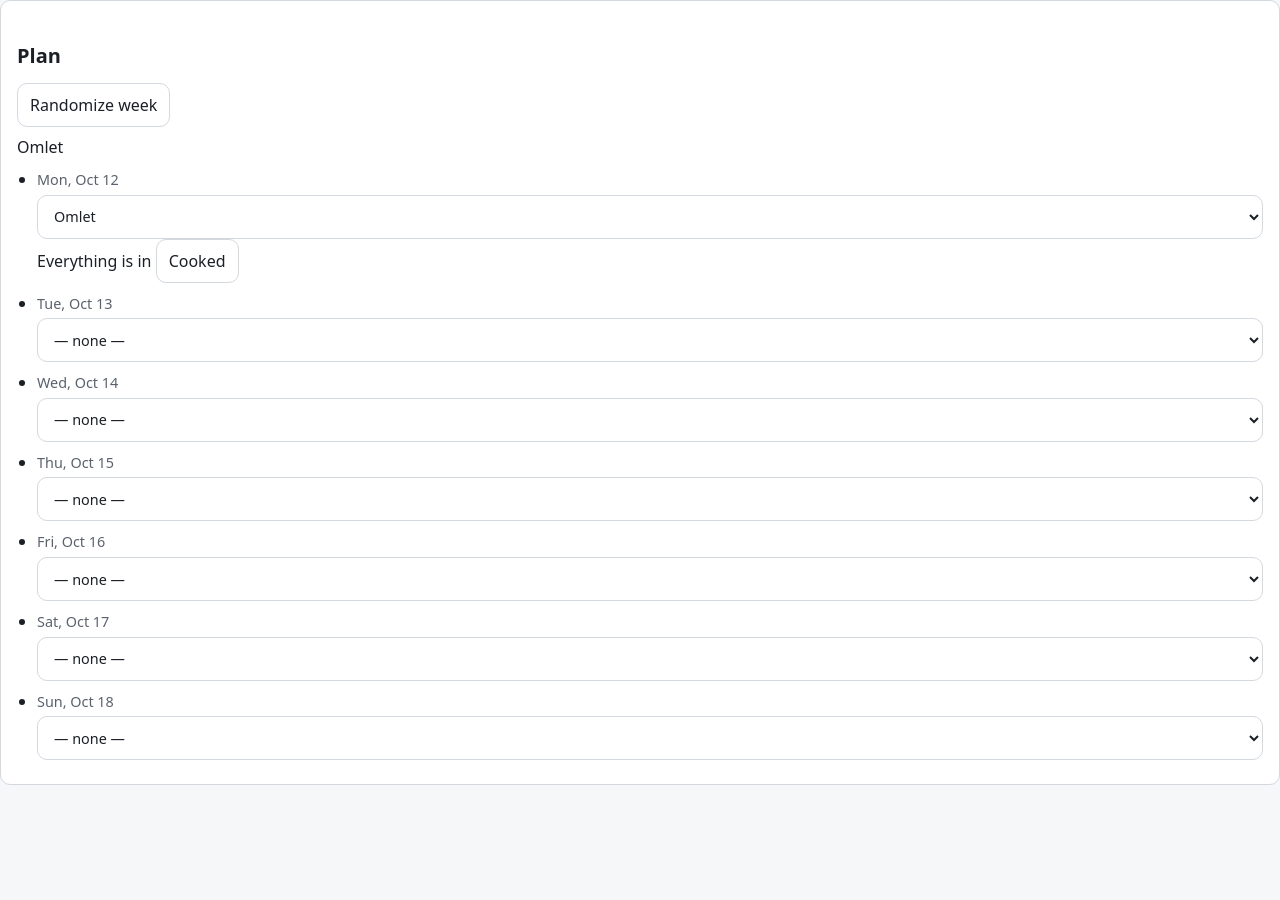
Test: PlanView cooking › cancels without writing
The width and height of the screenshot is (1280, 900).
Click the button "Cooked" at (197, 261), box [156,239,238,283]
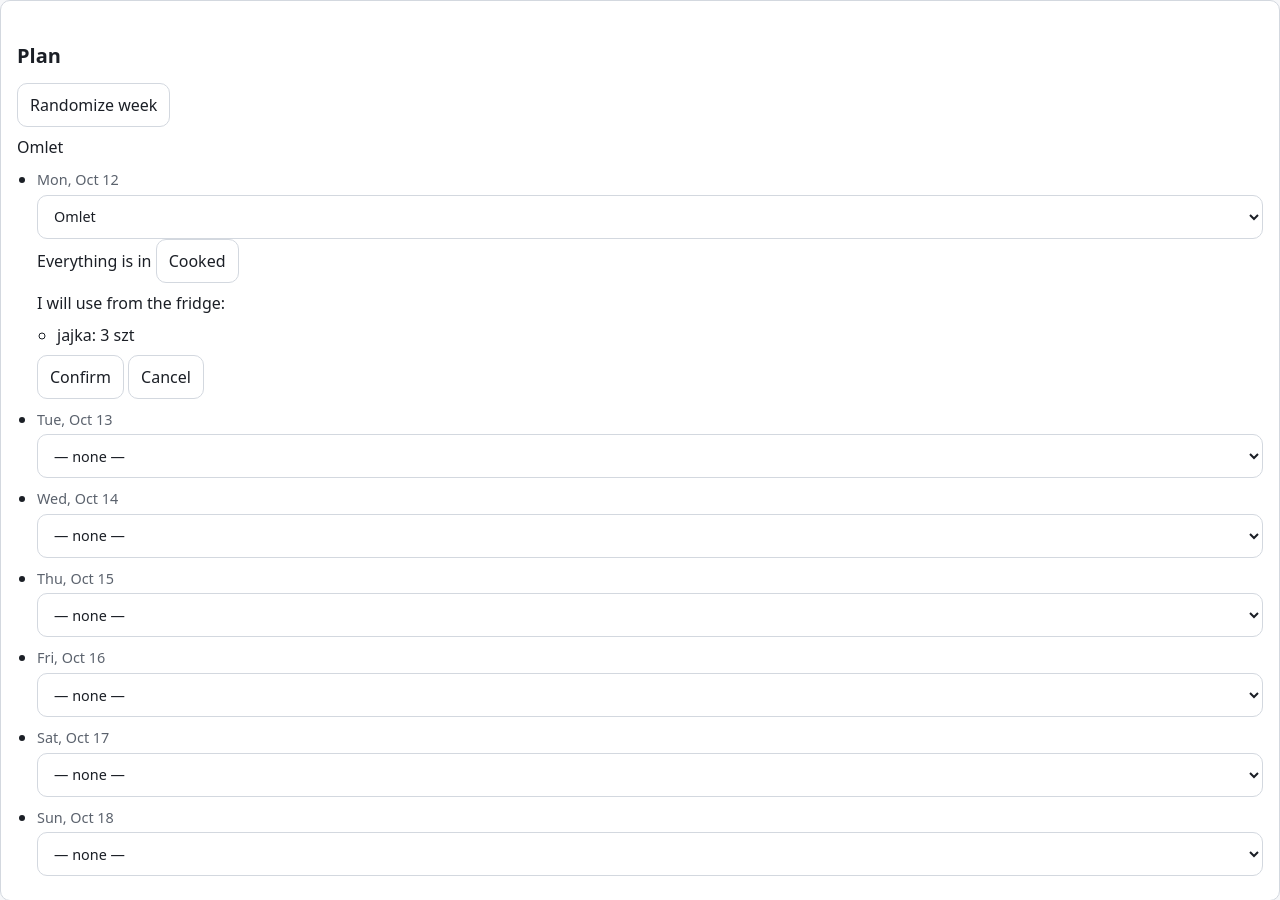
Click the button "Cancel" at (166, 377), box [128,355,204,399]
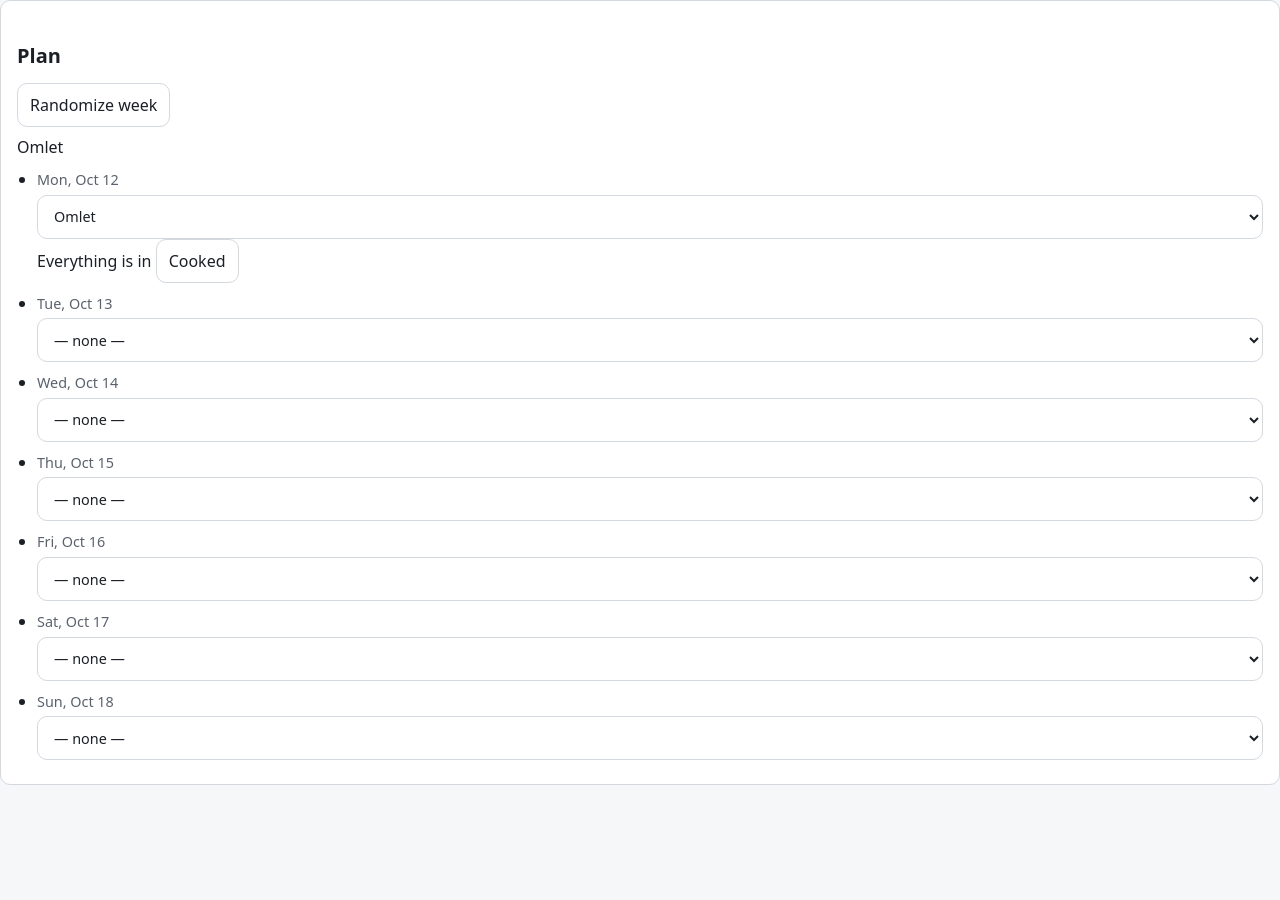
Result: the text "I will use from the fridge:" is gone
